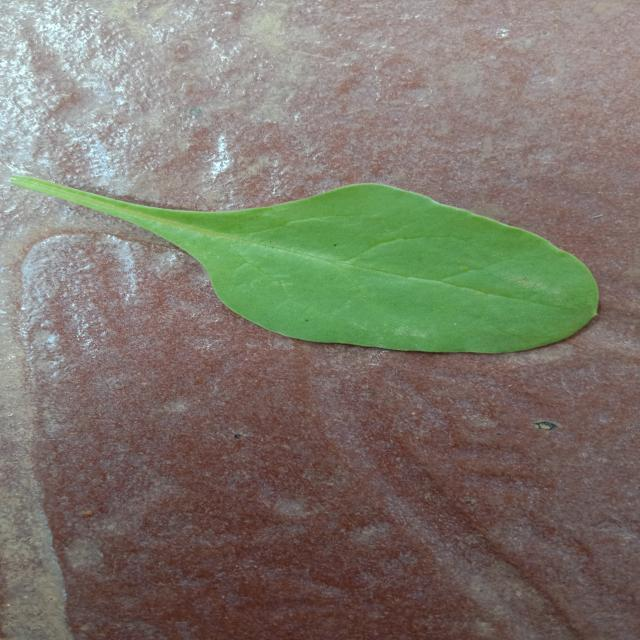leaf: (9, 171, 600, 355)
